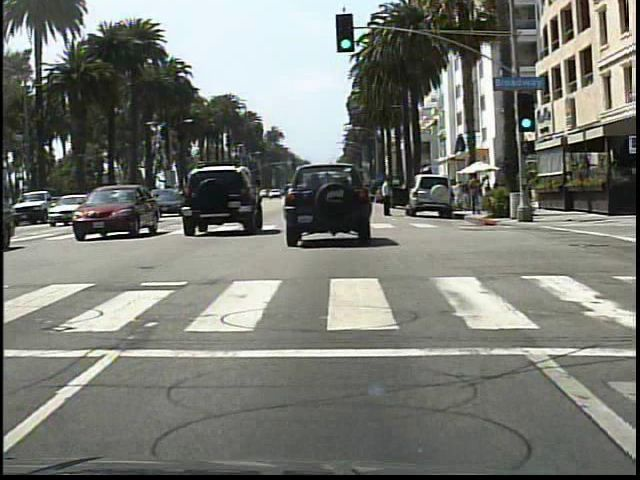person: (375, 171, 398, 221)
